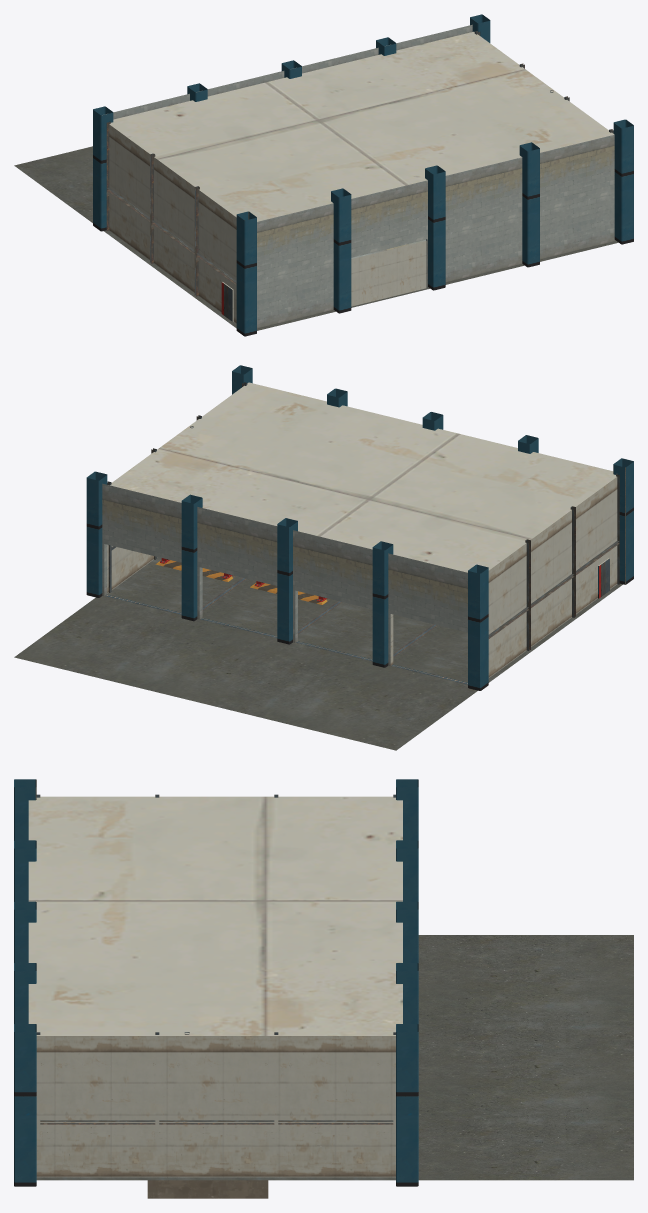
File: Lobby_Garage.fbx
3 renders of one model, top to bottom at view 1: azimuth 30°, elevation 25°; view 2: azimuth 150°, elevation 25°; view 3: azimuth 270°, elevation 25°, orthographic. The views are drawn at different scales.
Visible parts, largest first — view 1: Garage_Lobby; view 2: Garage_Lobby; view 3: Garage_Lobby.
Part boxes in pixels (x1,y1,x2,y2): Garage_Lobby: [14, 14, 633, 336]; Garage_Lobby: [14, 365, 633, 750]; Garage_Lobby: [14, 779, 633, 1198].
Bounding box in the file's own units: 1582 × 545 × 1638.
